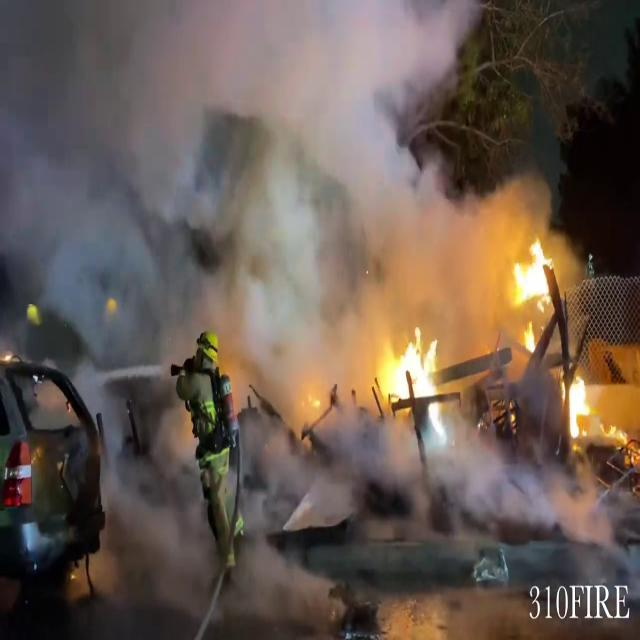Fire: (374, 323, 450, 418), (562, 369, 630, 452), (504, 234, 560, 308), (563, 369, 595, 442), (520, 321, 538, 355)
Smoke: (1, 0, 526, 346)
